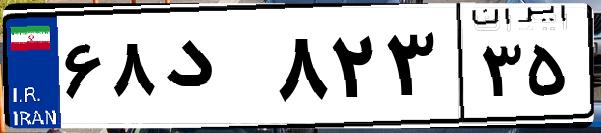2: (330, 28, 385, 110)
3: (385, 28, 445, 110), (475, 38, 525, 113)
5: (525, 38, 570, 115)
6: (57, 26, 110, 100)
8: (270, 28, 330, 110), (110, 28, 158, 98)
د: (158, 20, 270, 120)
